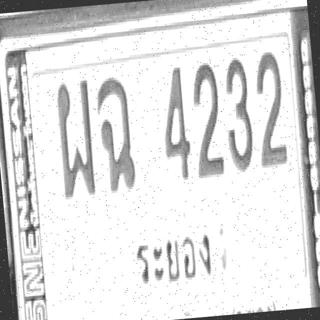A09: (94, 74, 138, 194)
A28: (54, 76, 98, 198)
N02: (188, 59, 225, 178), (251, 49, 288, 168)
N03: (220, 54, 255, 173)
N04: (157, 63, 193, 182)
P53: (127, 220, 220, 292)
